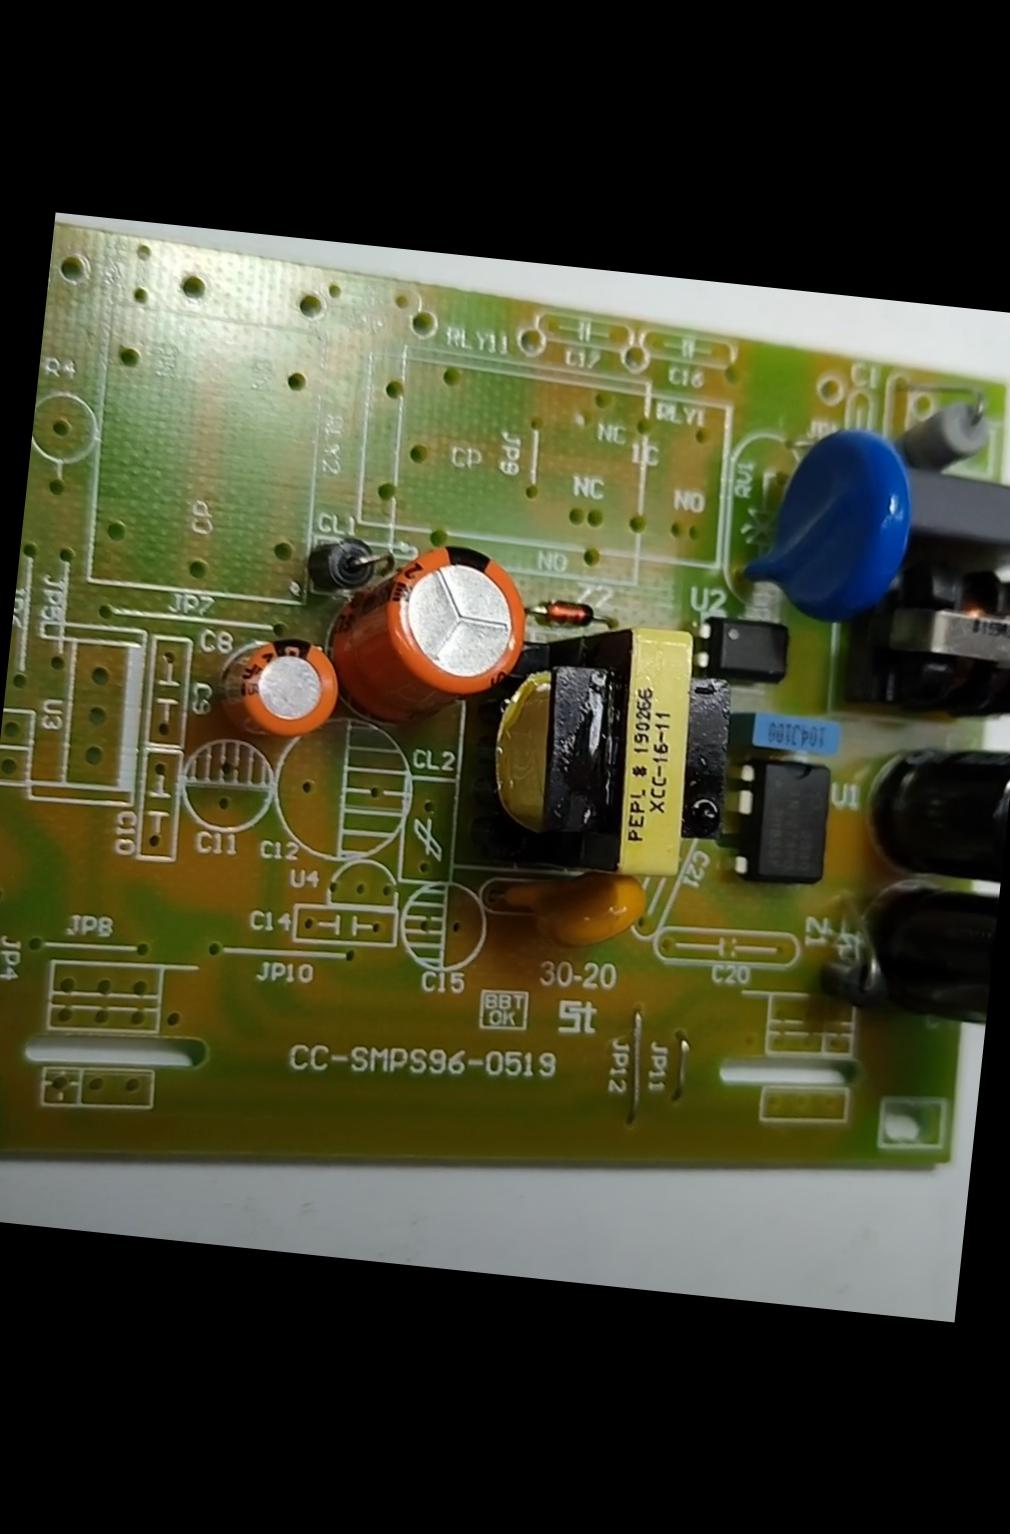Cap1: (326, 527, 544, 734)
Cap2: (192, 623, 346, 750)
Cap3: (852, 722, 1009, 890)
Cap4: (851, 874, 999, 1037)
MOSFET: (719, 754, 843, 892)
Mov: (724, 414, 925, 635)
Resistor: (903, 388, 1000, 479)
Transformer: (438, 604, 710, 908), (856, 549, 1009, 724)
